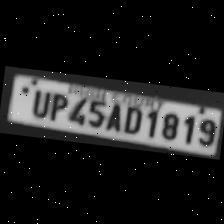1: (177, 109, 199, 145), (140, 104, 160, 138)
4: (64, 89, 88, 124)
5: (84, 92, 106, 128)
8: (156, 107, 180, 141)
9: (193, 112, 218, 147)
A: (102, 97, 123, 131)
D: (119, 100, 144, 134)
P: (45, 88, 68, 120)
U: (26, 84, 52, 118)
